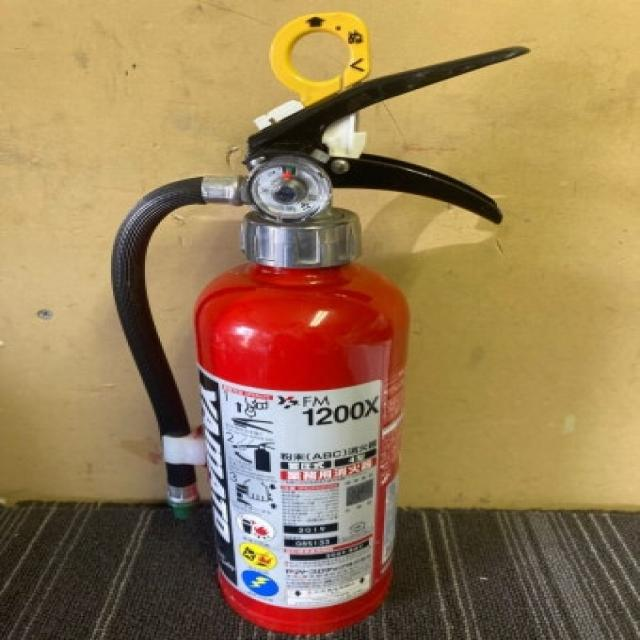pressure gauge: (250, 160, 329, 218)
